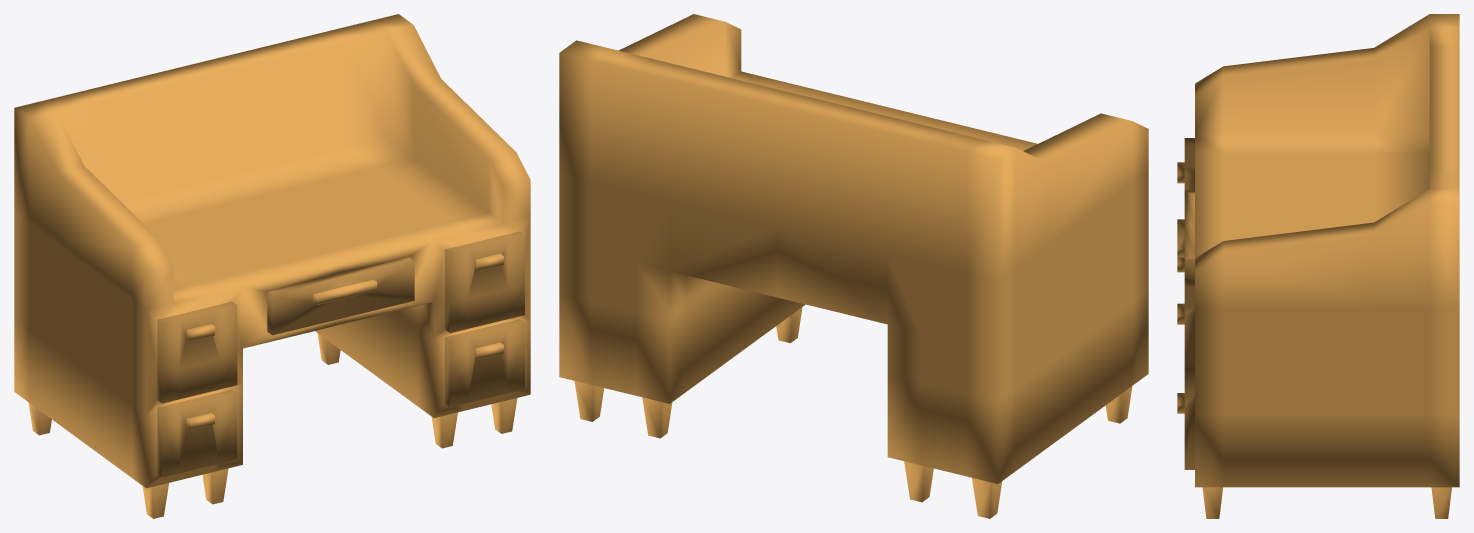
The model's file is desk.glb.
3 views of the same model, side by side, from view 1: azimuth 30°, elevation 25°; view 2: azimuth 150°, elevation 25°; view 3: azimuth 270°, elevation 25° (orthographic). The views are drawn at different scales.
Visible parts, largest first — view 1: Desk, Desk.001; view 2: Desk; view 3: Desk, Desk.001.
Boxes of the visible parts, box(x1,y1,x2,y2) form: Desk: box(14, 14, 530, 518); Desk.001: box(267, 257, 414, 335); Desk: box(559, 14, 1148, 518); Desk: box(1177, 14, 1459, 518); Desk.001: box(1177, 190, 1194, 278).
Bounding box in the file's own units: 1.76 × 1.41 × 1.12.
